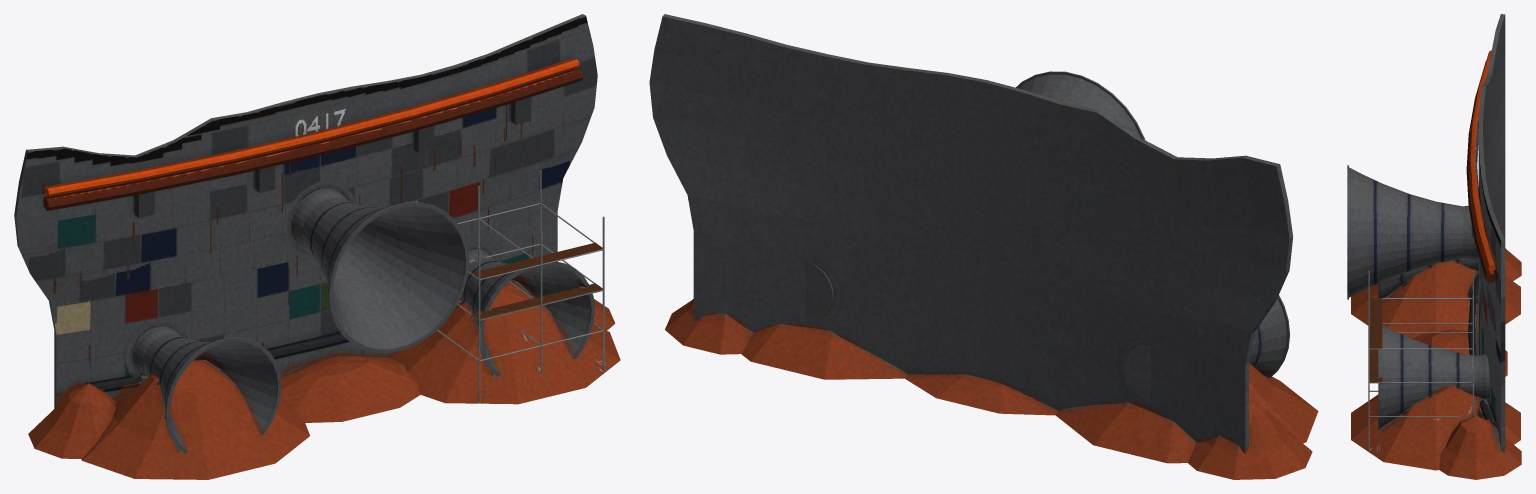
File: hull_stern.glb
The picture shows the model from 3 angles, left to right: view 1: azimuth 30°, elevation 25°; view 2: azimuth 150°, elevation 25°; view 3: azimuth 270°, elevation 25°; orthographic projection. The views are drawn at different scales.
Parts seen in each view (by area): view 1: hull_stern; view 2: hull_stern; view 3: hull_stern.
Part boxes in pixels (x1,y1,x2,y2): hull_stern: (14, 14, 620, 479); hull_stern: (649, 14, 1318, 479); hull_stern: (1347, 14, 1521, 479).
Bounding box in the file's own units: 37.47 × 17.5 × 11.69.
Materials: 1 (1 with a texture image).
